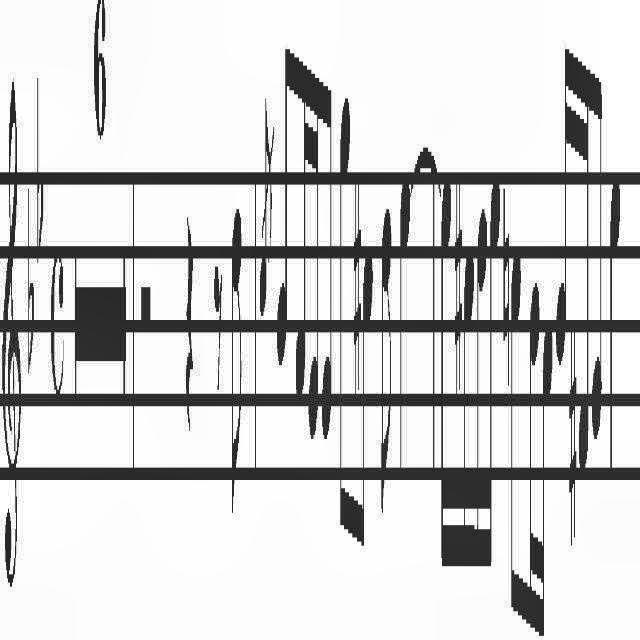Bass-clef: (1, 73, 22, 594)
Bemol: (26, 185, 34, 387), (36, 84, 44, 264)
Diez: (453, 171, 462, 405), (352, 178, 360, 398), (568, 333, 576, 551)
Eighth-note: (357, 229, 373, 595), (338, 77, 350, 557), (276, 36, 292, 380), (510, 244, 524, 624), (322, 77, 334, 465), (230, 200, 242, 532), (380, 203, 392, 525), (592, 61, 602, 446)
Eighth-rest: (212, 257, 222, 399)
Quarter-note: (608, 168, 622, 494), (398, 168, 410, 496)
Quarter-rest: (186, 205, 194, 442)
Sixteenth-note: (488, 166, 500, 630), (576, 49, 588, 507), (475, 196, 487, 620), (557, 30, 571, 390), (438, 174, 450, 582), (461, 238, 474, 604), (308, 70, 320, 443), (526, 271, 538, 640), (294, 61, 306, 415), (540, 320, 552, 640)
